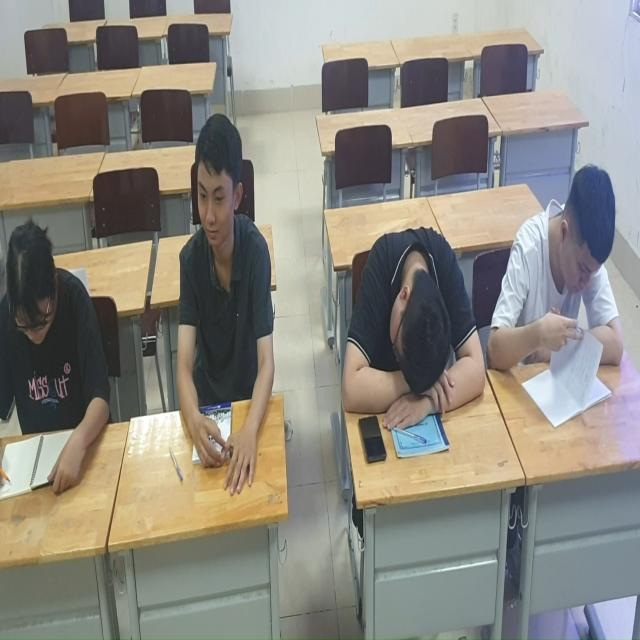read: (153, 103, 280, 513), (497, 155, 633, 422), (1, 215, 123, 499)
sleep: (340, 206, 489, 435)
